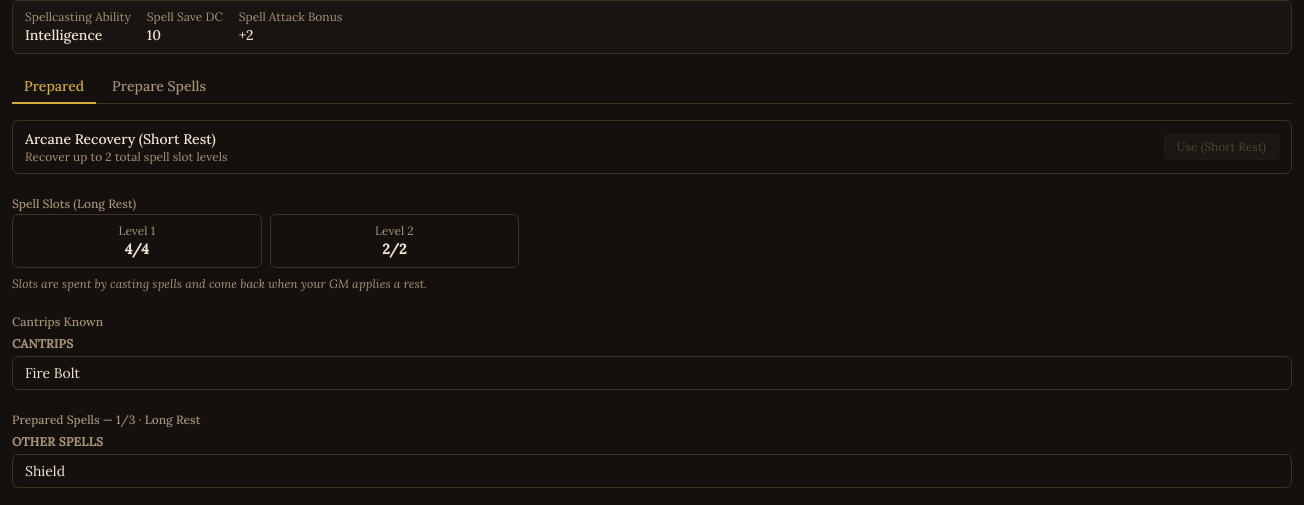
WizardSheet lock/unlock mechanics › shows lock banner when player is locked (prepared_locked=true, not GM)
Click the button "Prepare Spells": click(159, 87) [100,70,218,104]
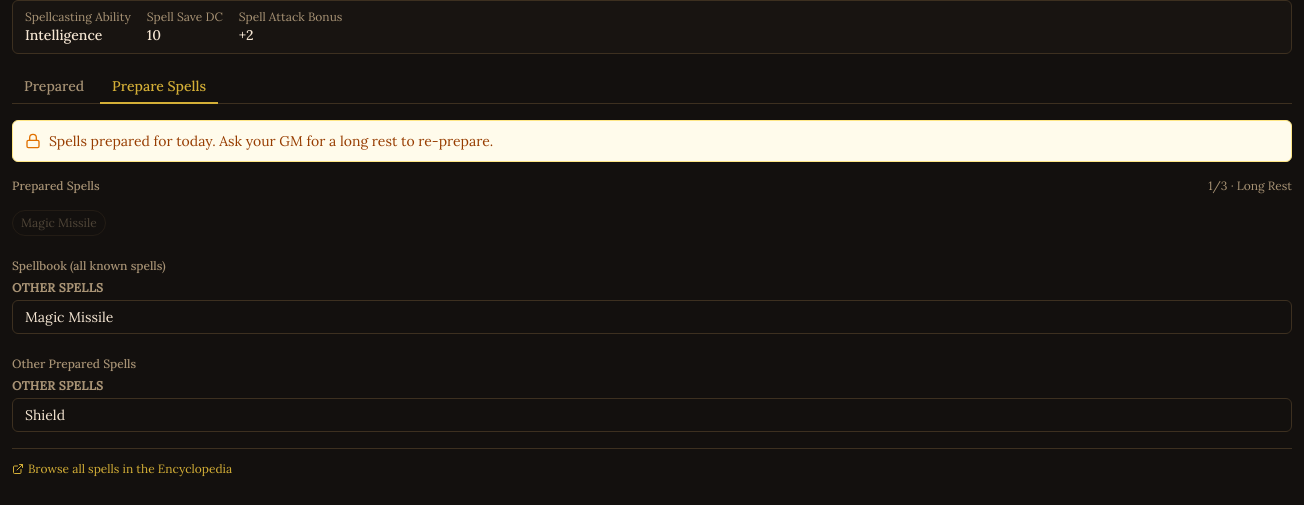
Check: the text "Spells prepared for today" is shown, box [49,132,493,150]
